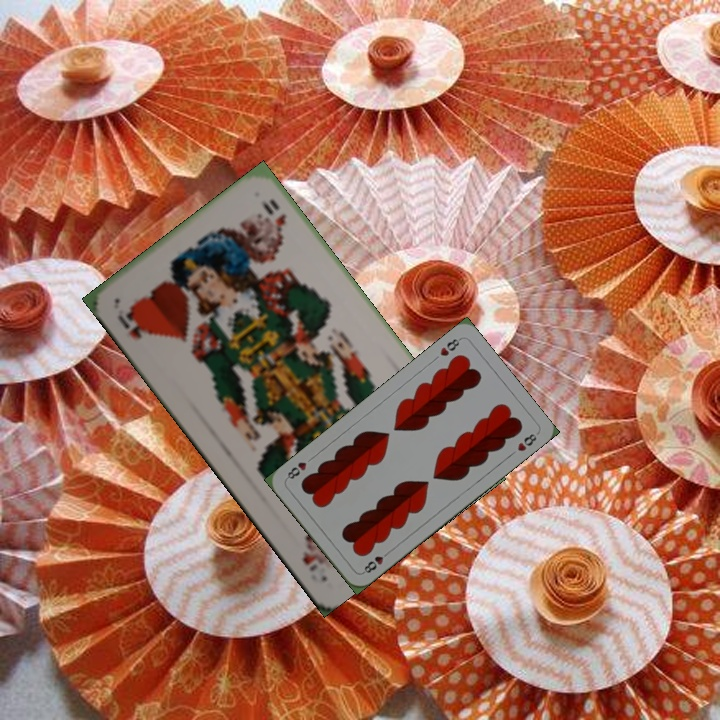H8: (358, 547, 393, 576), (436, 334, 464, 359)
HO: (113, 303, 145, 341)
